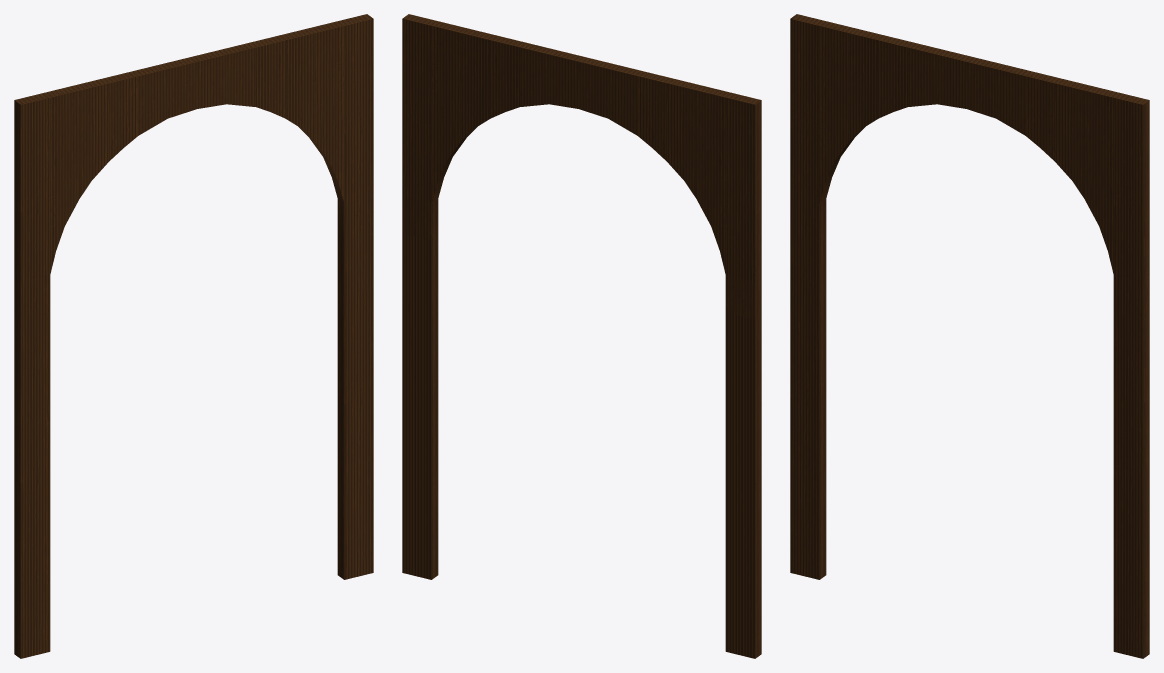
3 views of the same model, side by side, from view 1: azimuth 30°, elevation 25°; view 2: azimuth 150°, elevation 25°; view 3: azimuth 330°, elevation 25° (orthographic).
Parts seen in each view (by area): view 1: Wall_Arch; view 2: Wall_Arch; view 3: Wall_Arch.
Part boxes in pixels (x1,y1,x2,y2): Wall_Arch: [14, 14, 373, 658]; Wall_Arch: [402, 14, 761, 658]; Wall_Arch: [790, 14, 1149, 658].
Bounding box in the file's own units: 2 × 3 × 0.064.
Materials: 1 (1 with a texture image).
